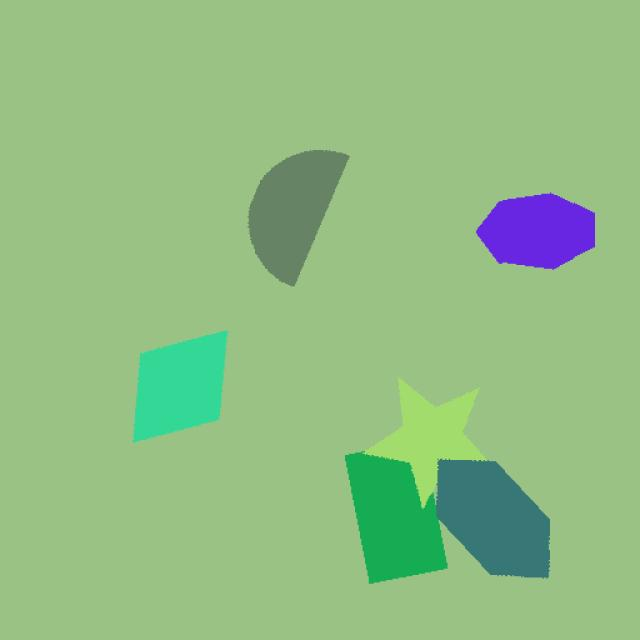Heptagon: (461, 178, 632, 297)
Hexagon: (415, 431, 568, 586)
Kite: (105, 309, 239, 466)
Rectangle: (322, 425, 444, 589)
Semicircle: (233, 144, 371, 306)
Star: (371, 372, 503, 511)
